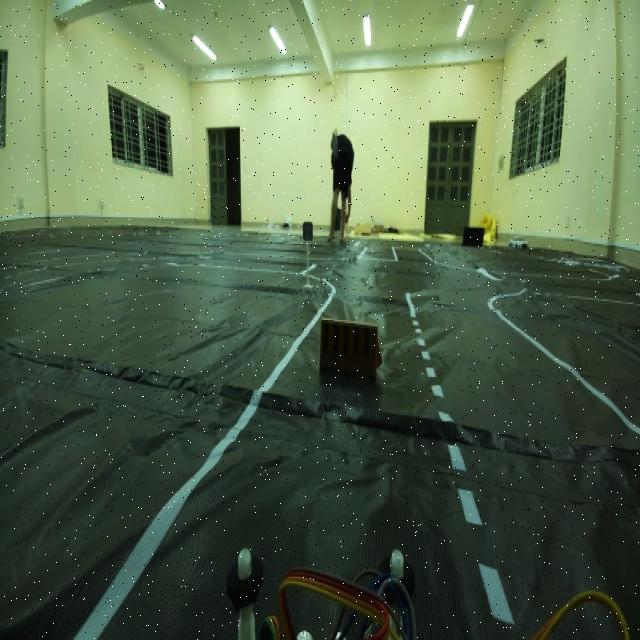roadblock: (316, 306, 390, 394)
